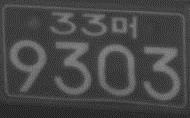0: (97, 43, 136, 97)
3: (142, 44, 181, 101), (53, 40, 92, 96), (79, 11, 108, 37), (48, 10, 76, 35)
9: (8, 38, 47, 93)
머: (110, 14, 138, 39)
